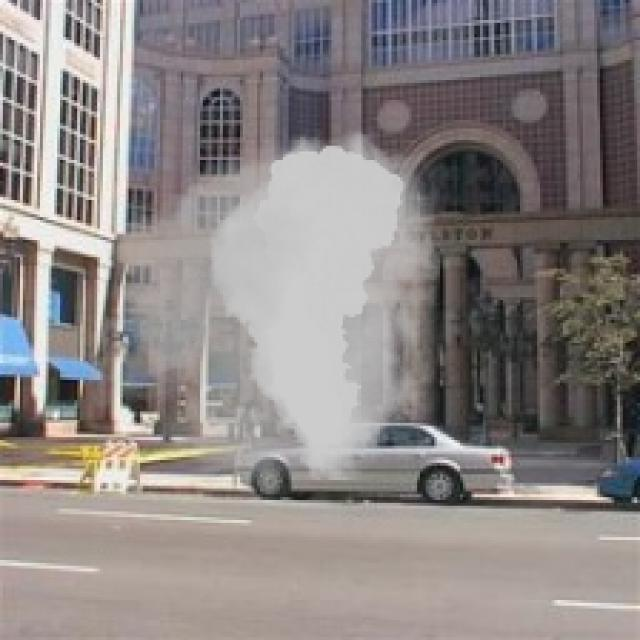smoke: (66, 120, 471, 506)
